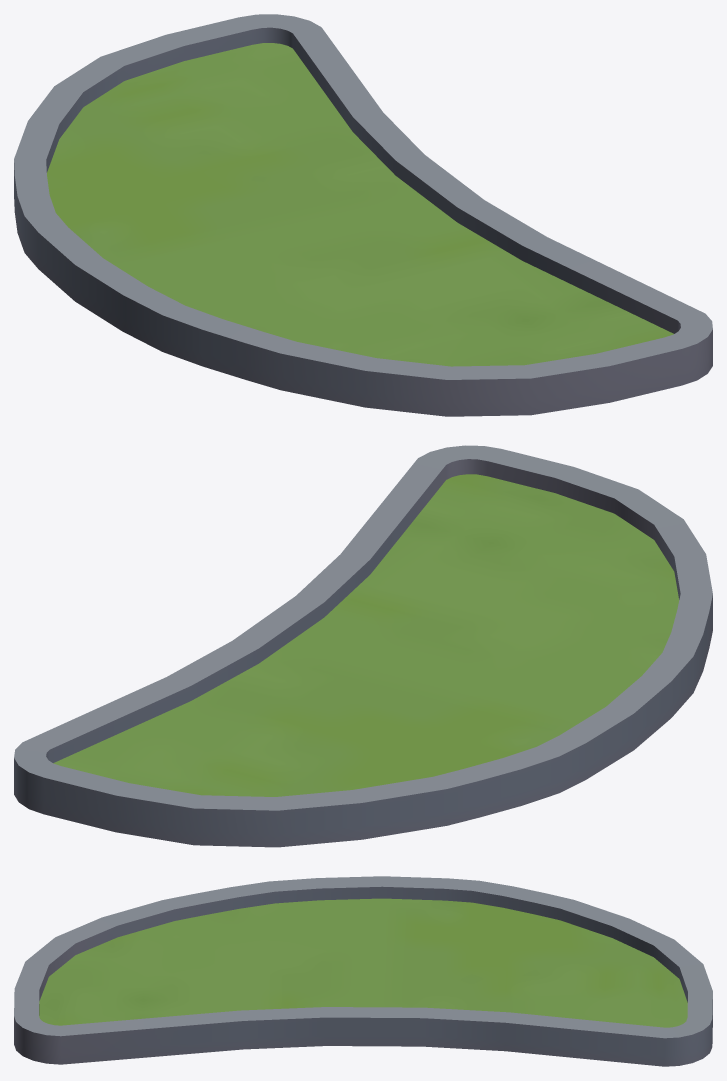
Rendered from Park Land.fbx.
The picture shows the model from 3 angles, top to bottom: view 1: azimuth 30°, elevation 25°; view 2: azimuth 150°, elevation 25°; view 3: azimuth 270°, elevation 25°; orthographic projection. The views are drawn at different scales.
Visible parts, largest first — view 1: Park_Land1; view 2: Park_Land1; view 3: Park_Land1.
Boxes of the visible parts, x1=… form: Park_Land1: x1=14, y1=14, x2=712, y2=416; Park_Land1: x1=14, y1=445, x2=712, y2=847; Park_Land1: x1=14, y1=876, x2=712, y2=1066.
Bounding box in the file's own units: 327 × 26.76 × 596.
